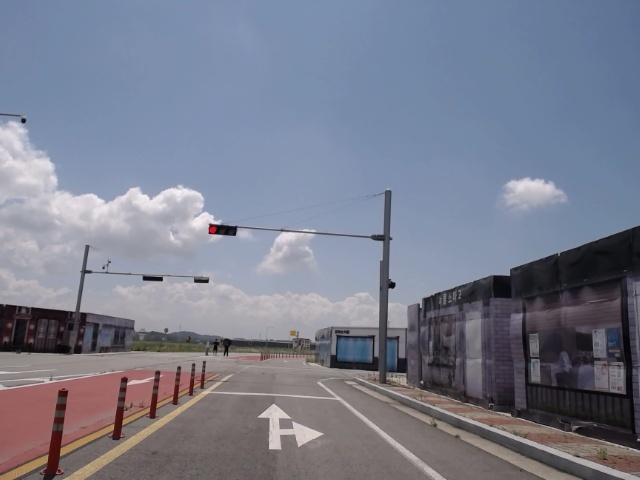red_3: (206, 222, 239, 237)
